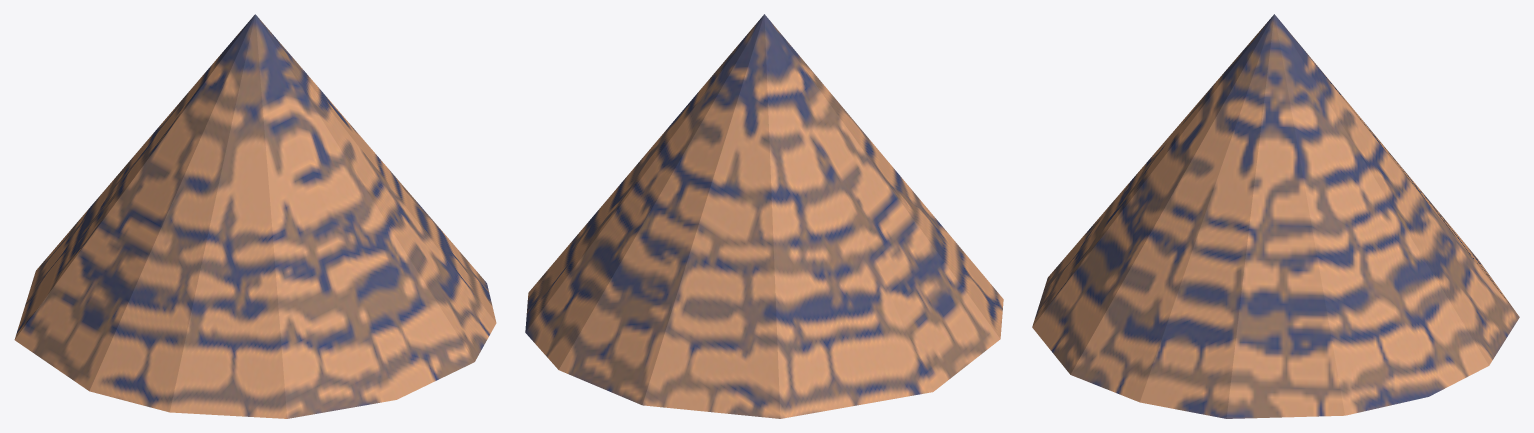
File: Dach_2.fbx
3 views of the same model, side by side, from view 1: azimuth 30°, elevation 25°; view 2: azimuth 150°, elevation 25°; view 3: azimuth 270°, elevation 25° (orthographic).
Parts seen in each view (by area): view 1: Dach_2; view 2: Dach_2; view 3: Dach_2.
Boxes of the visible parts, x1=… form: Dach_2: x1=14, y1=14, x2=496, y2=418; Dach_2: x1=525, y1=14, x2=1003, y2=418; Dach_2: x1=1032, y1=14, x2=1519, y2=418.
Bounding box in the file's own units: 18034 × 12627 × 18401.
